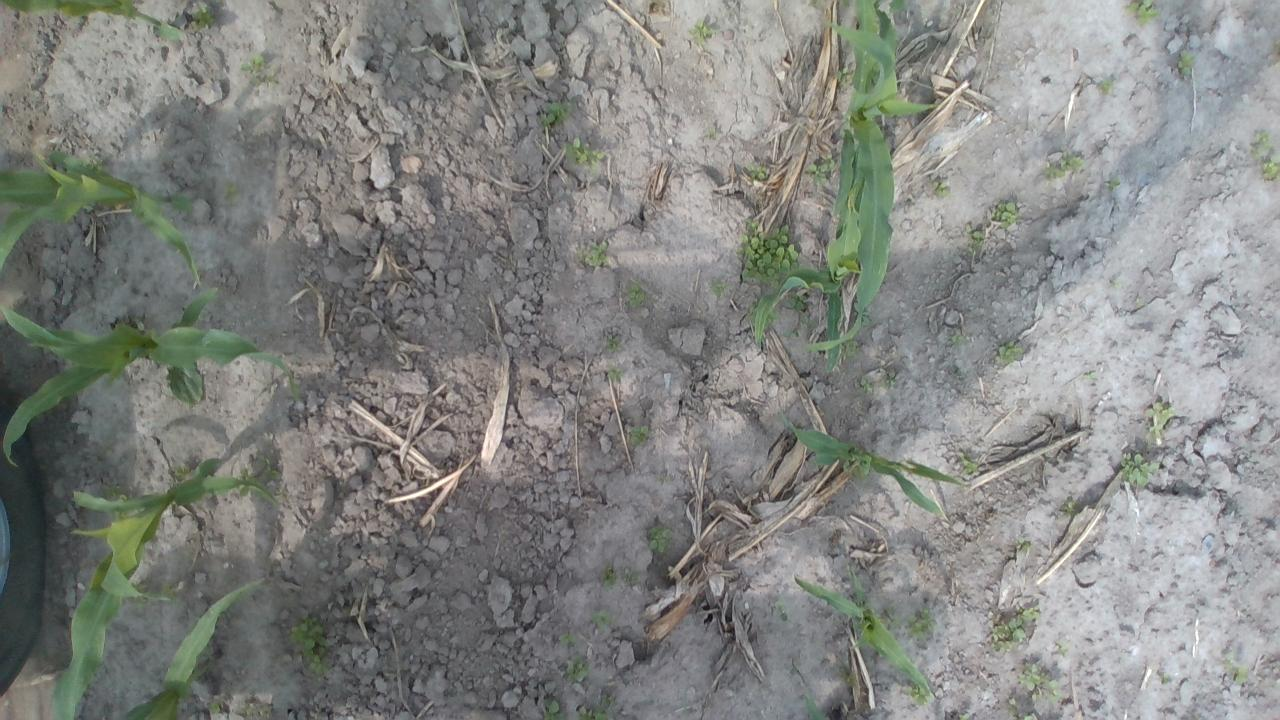Maize: (45, 456, 275, 720), (0, 286, 301, 468), (804, 0, 936, 348), (0, 151, 200, 286), (754, 146, 862, 370), (116, 575, 264, 720), (779, 410, 966, 518), (794, 568, 934, 695), (801, 688, 850, 720)
Weeds: (735, 218, 799, 290), (287, 614, 333, 675), (236, 456, 280, 498), (165, 361, 205, 404), (1018, 663, 1058, 706), (1120, 452, 1158, 488), (565, 136, 604, 170), (992, 617, 1026, 652), (1046, 151, 1086, 180), (1146, 403, 1174, 440), (806, 154, 837, 184), (907, 608, 937, 638), (1126, 0, 1160, 26), (540, 102, 574, 127), (622, 280, 650, 310), (238, 54, 267, 82), (1225, 654, 1249, 686), (565, 654, 592, 682), (991, 200, 1017, 228), (580, 238, 608, 264), (115, 314, 151, 334), (648, 526, 674, 553), (963, 222, 984, 255), (188, 3, 215, 28), (688, 19, 713, 46), (996, 342, 1024, 365), (1252, 131, 1272, 160), (1262, 154, 1280, 182), (957, 451, 977, 476), (851, 301, 871, 326), (101, 483, 128, 501), (1176, 50, 1196, 74), (911, 682, 932, 704), (840, 338, 860, 360), (834, 66, 854, 88), (628, 424, 648, 446), (880, 607, 902, 626), (576, 707, 608, 720), (744, 164, 768, 180), (787, 292, 808, 310), (222, 182, 240, 202), (775, 601, 790, 624), (600, 569, 618, 588), (932, 178, 949, 198), (544, 697, 558, 720), (1021, 606, 1040, 622), (590, 610, 610, 625), (1016, 535, 1032, 553), (557, 633, 577, 647), (764, 309, 780, 326), (172, 464, 190, 478), (890, 0, 909, 13), (748, 298, 759, 320), (622, 572, 642, 584), (1099, 78, 1114, 94), (607, 366, 624, 380), (606, 338, 621, 353), (710, 282, 726, 296), (207, 701, 224, 714), (798, 318, 816, 330), (1082, 369, 1097, 383), (1054, 641, 1068, 654), (88, 160, 106, 170), (704, 127, 718, 138), (1021, 712, 1040, 720), (1064, 502, 1076, 514), (884, 374, 896, 386), (862, 381, 874, 393), (1108, 178, 1120, 190), (840, 0, 851, 10), (951, 334, 962, 344), (1160, 674, 1170, 684), (1110, 280, 1122, 288), (789, 330, 801, 338), (815, 0, 823, 9), (958, 713, 968, 720)
